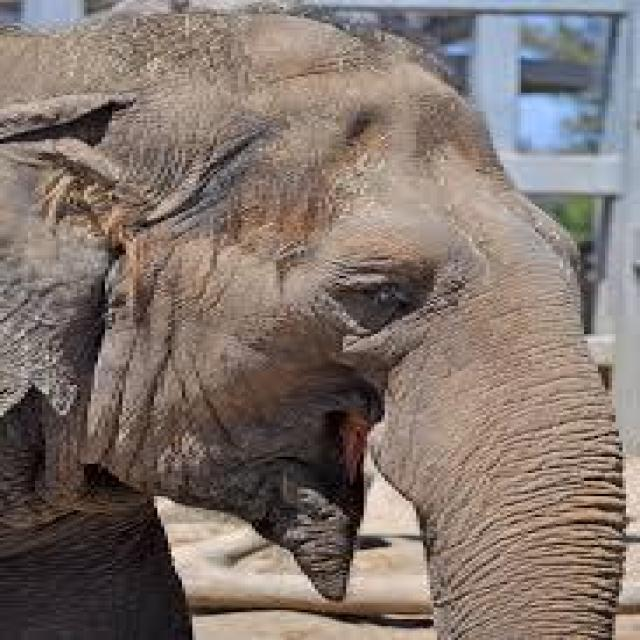Elephant: (0, 12, 626, 638)
